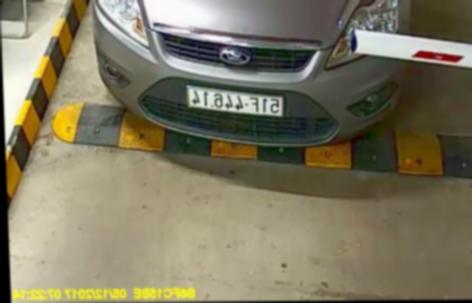License_Plate: (181, 87, 287, 118)
